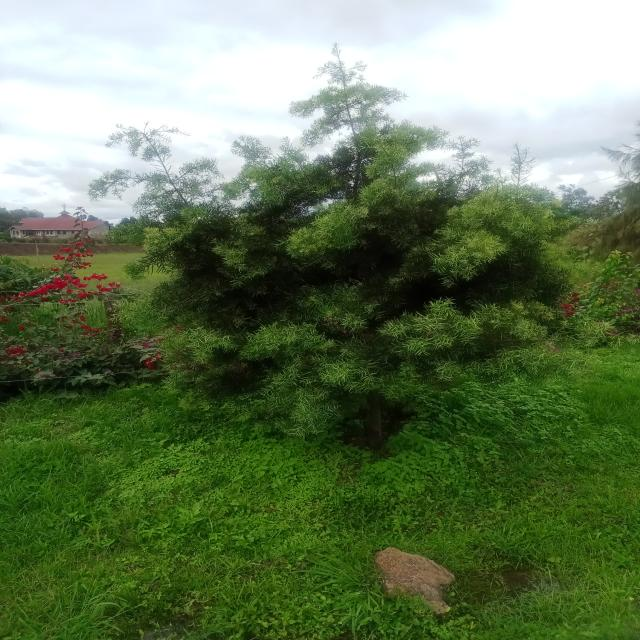Podocarpus falcatus: (92, 54, 568, 461)
